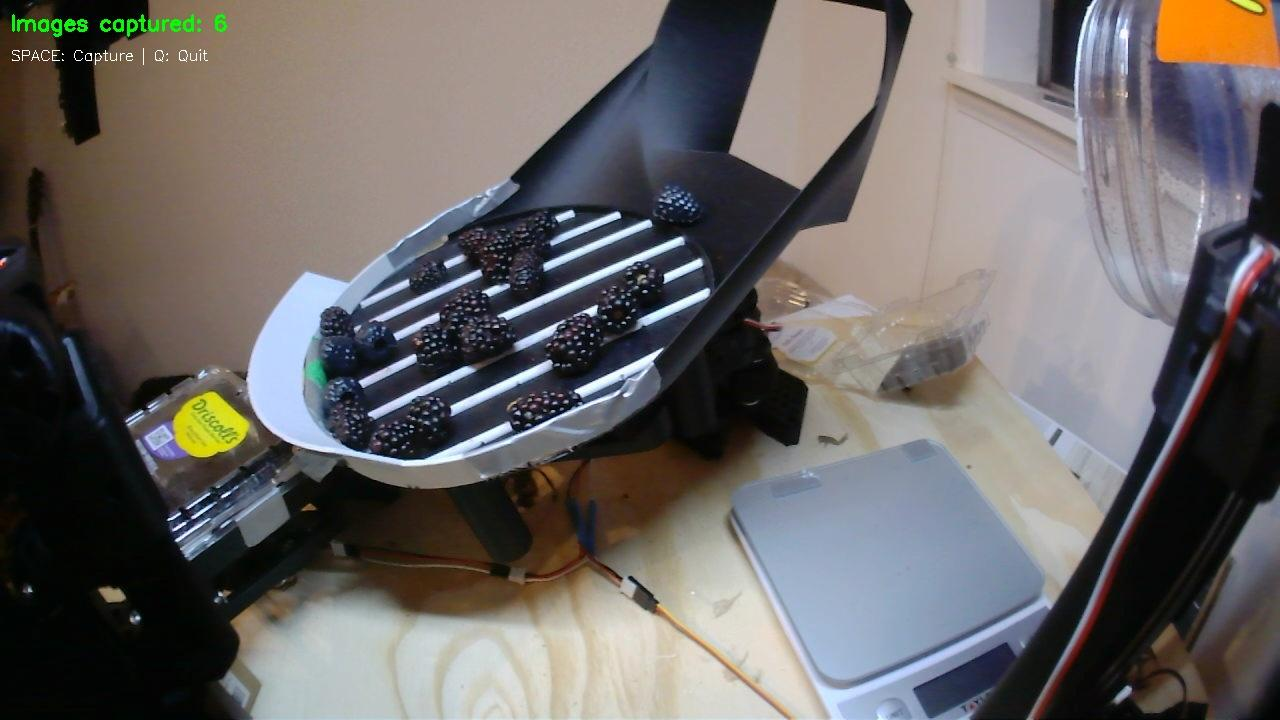berry: (545, 313, 603, 376), (508, 390, 582, 431), (460, 315, 515, 362), (326, 400, 371, 449), (369, 420, 426, 458), (413, 324, 460, 370), (408, 395, 451, 444), (652, 184, 703, 225), (480, 229, 518, 283), (596, 285, 638, 333), (507, 248, 545, 299), (319, 335, 360, 378), (624, 262, 664, 306), (440, 290, 490, 324), (355, 321, 395, 363), (322, 377, 364, 413), (506, 222, 549, 257), (408, 260, 447, 293), (524, 209, 558, 240), (319, 306, 353, 336), (456, 228, 488, 259)
